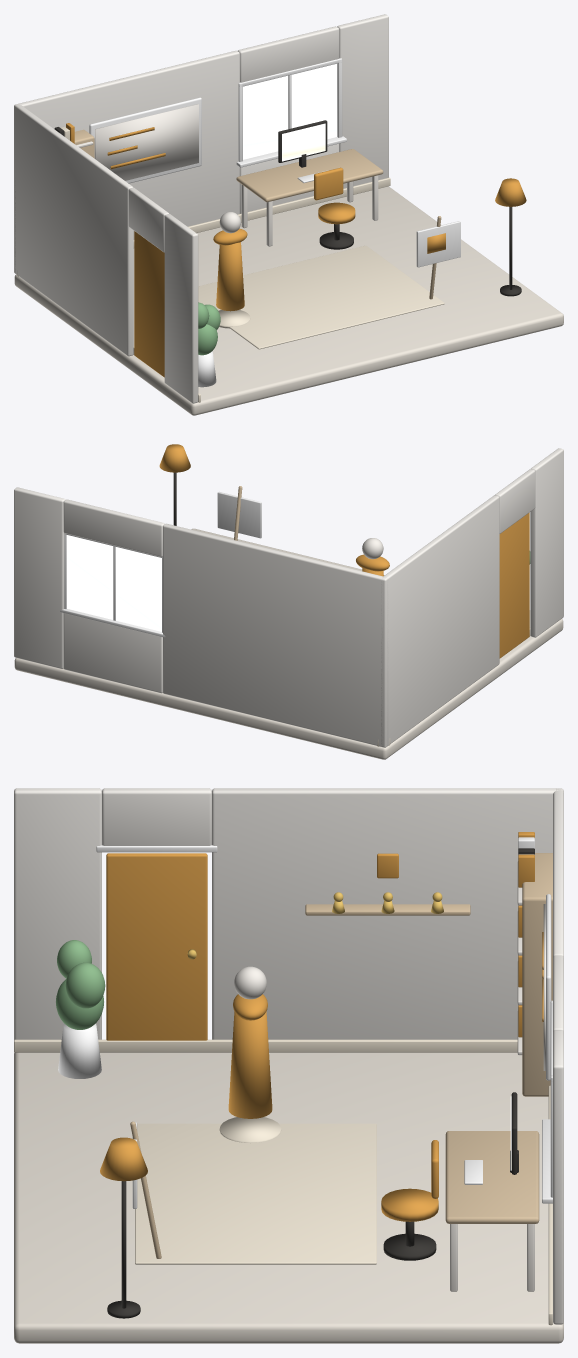
File: room-studio.glb
3 views of the same model, one above another, from view 1: azimuth 30°, elevation 25°; view 2: azimuth 150°, elevation 25°; view 3: azimuth 270°, elevation 25° (orthographic). The views are drawn at different scales.
Visible parts, largest first — view 1: floor, wall_left_b, wall_back_l, rug, wall_back_r, wall_left_a, window_glass, wb_board, door_leaf, wall_back_hi, desk_top, fs_body (+12 smaller); view 2: wall_back_l, wall_left_b, wall_back_r, floor, window_glass, wall_back_lo, wall_left_a, door_leaf, wall_back_hi, wall_left_hi, canvas, lamp_shade (+2 smaller); view 3: floor, wall_left_b, rug, door_leaf, wall_left_a, desk_top, wall_left_hi, base_left, bs_body, fs_body, wall_back_r, pot (+17 smaller).
Part boxes in pixels (x1,y1,x2,y2): floor: [14, 186, 563, 415]; wall_left_b: [14, 104, 133, 356]; wall_back_l: [14, 50, 239, 273]; rug: [198, 245, 444, 349]; wall_back_r: [337, 14, 388, 188]; wall_left_a: [164, 214, 198, 403]; window_glass: [243, 64, 337, 159]; wb_board: [95, 104, 198, 180]; door_leaf: [134, 231, 164, 377]; wall_back_hi: [238, 26, 339, 82]; desk_top: [236, 149, 383, 202]; fs_body: [216, 237, 244, 311]; wall_back_l: [163, 523, 388, 747]; wall_left_b: [381, 495, 499, 746]; wall_back_r: [14, 487, 65, 668]; floor: [14, 528, 563, 759]; window_glass: [67, 535, 161, 631]; wall_back_lo: [63, 613, 162, 693]; wall_left_a: [530, 448, 563, 637]; door_leaf: [499, 512, 529, 658]; wall_back_hi: [63, 499, 164, 556]; wall_left_hi: [495, 469, 535, 533]; canvas: [217, 492, 261, 538]; lamp_shade: [159, 444, 190, 472]; floor: [14, 1052, 563, 1343]; wall_left_b: [212, 788, 563, 1039]; rug: [135, 1123, 376, 1264]; door_leaf: [106, 853, 207, 1040]; wall_left_a: [14, 788, 101, 1039]; desk_top: [445, 1131, 539, 1223]; wall_left_hi: [102, 788, 211, 845]; base_left: [14, 1039, 517, 1052]; bs_body: [522, 853, 552, 1096]; fs_body: [228, 999, 272, 1118]; wall_back_r: [553, 1030, 563, 1324]; pot: [58, 1023, 101, 1078].
Bounding box in the file's own units: 6 × 2.8 × 5.
